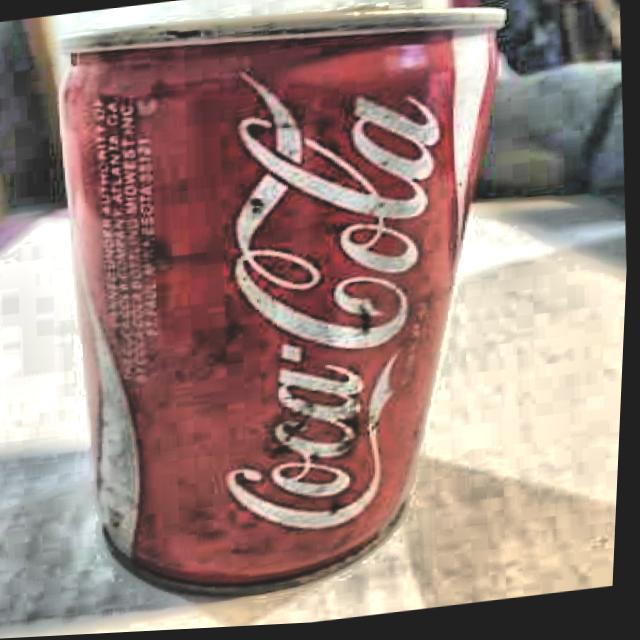Cans: (0, 0, 573, 604)
